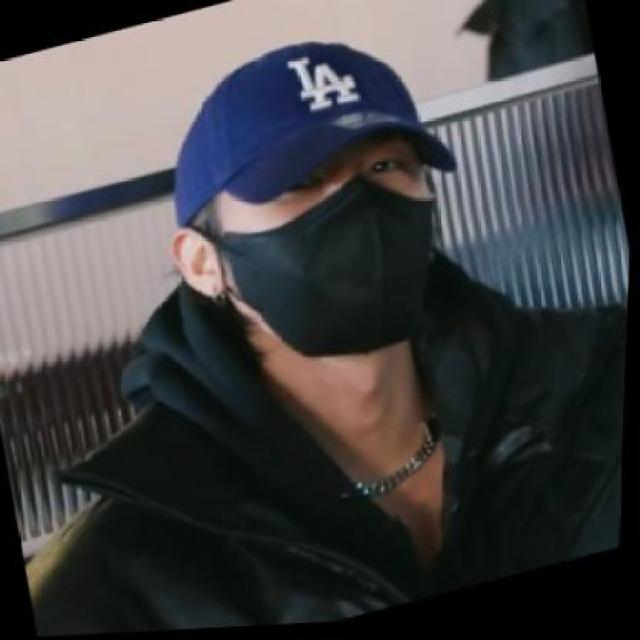hat: (140, 6, 472, 260)
